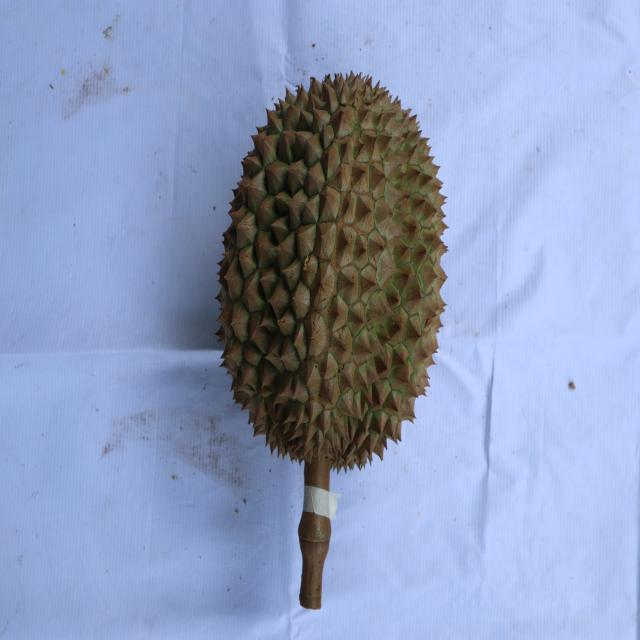mature: (215, 69, 450, 470)
